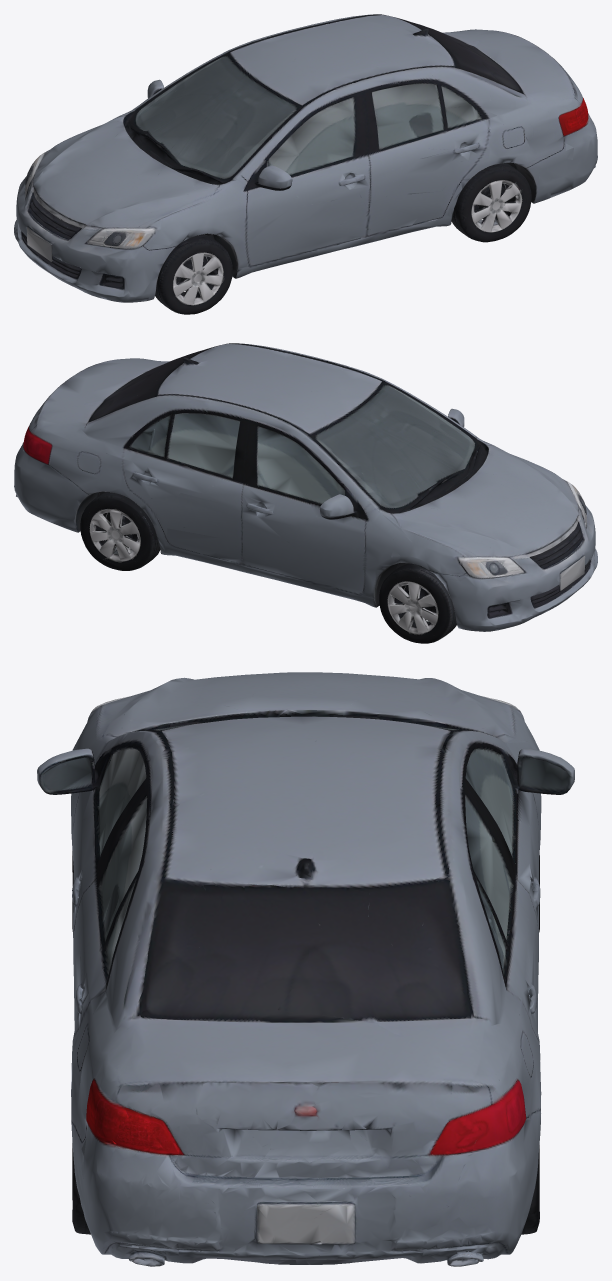
Rendered from vehicle_sedan_a_model.glb.
3 renders of one model, top to bottom at view 1: azimuth 30°, elevation 25°; view 2: azimuth 150°, elevation 25°; view 3: azimuth 270°, elevation 25°, orthographic. The views are drawn at different scales.
Visible parts, largest first — view 1: Mesh_0; view 2: Mesh_0; view 3: Mesh_0.
Part boxes in pixels (x1,y1,x2,y2): Mesh_0: (14,14,597,314); Mesh_0: (14,343,597,643); Mesh_0: (37,672,574,1266).
Size of the model in its own units: 4.69 by 1.5 by 2.09.
Materials: 1 (1 with a texture image).
